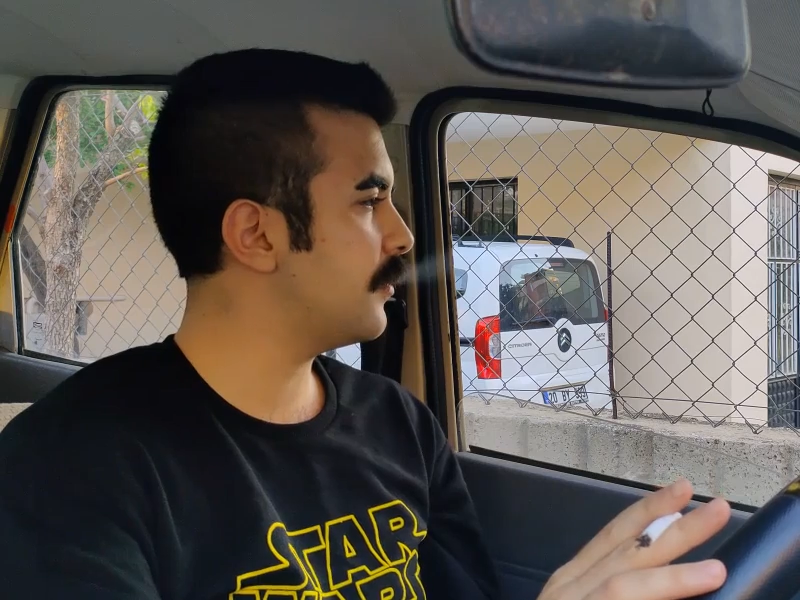sigara: (633, 509, 683, 551)
